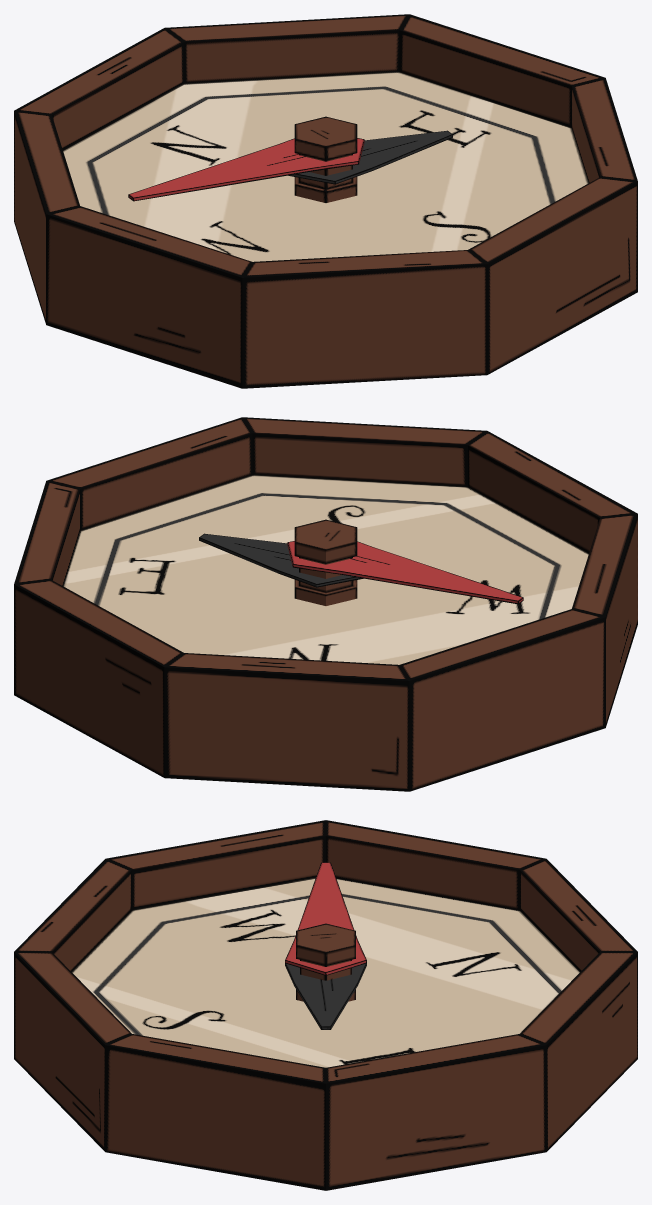
The model's file is boussole.fbx.
3 renders of one model, top to bottom at view 1: azimuth 30°, elevation 25°; view 2: azimuth 150°, elevation 25°; view 3: azimuth 270°, elevation 25°, orthographic. The views are drawn at different scales.
Parts seen in each view (by area): view 1: Boussole1, Fleche_1, Fleche_2; view 2: Boussole1, Fleche_1, Fleche_2; view 3: Boussole1, Fleche_1, Fleche_2.
Boxes of the visible parts, box(x1,y1,x2,y2) form: Boussole1: box(14, 14, 637, 388); Fleche_1: box(128, 138, 364, 201); Fleche_2: box(288, 130, 452, 184); Boussole1: box(14, 417, 637, 791); Fleche_1: box(287, 541, 523, 604); Fleche_2: box(199, 533, 363, 587); Boussole1: box(14, 820, 637, 1190); Fleche_1: box(285, 862, 366, 975); Fleche_2: box(285, 963, 366, 1029).
Bounding box in the file's own units: 23.1 × 4.93 × 23.1.
